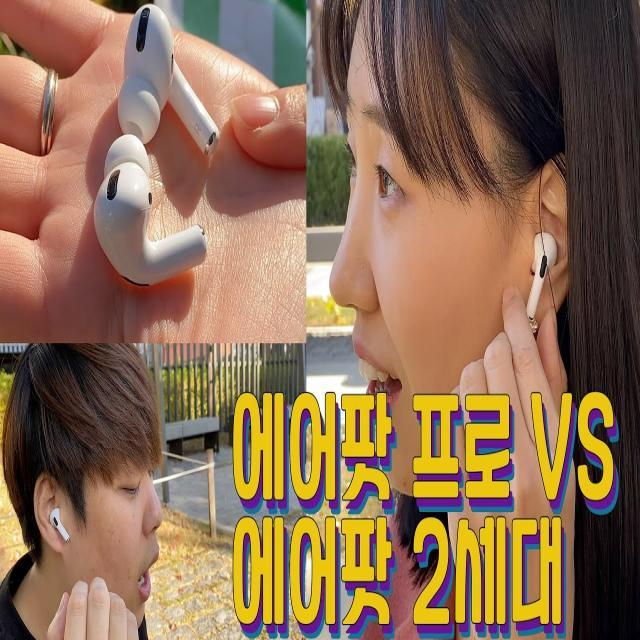earphone: (95, 135, 205, 290), (120, 4, 218, 155), (500, 224, 565, 321), (35, 505, 91, 549)
